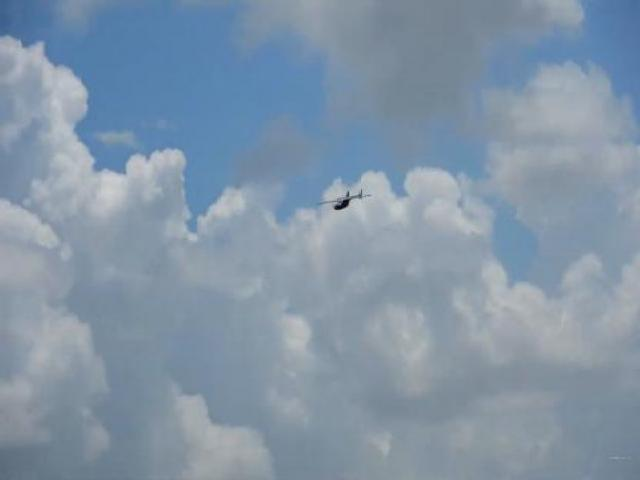uav: (314, 186, 374, 216)
